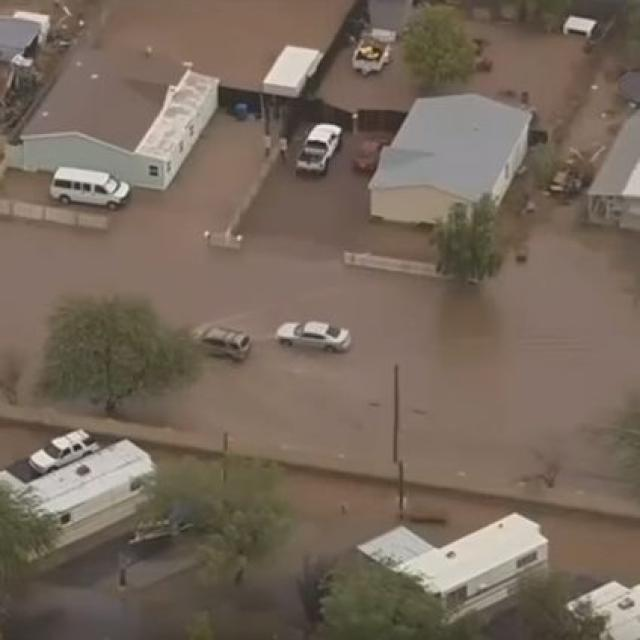flooded_areas: (1, 206, 638, 550)
